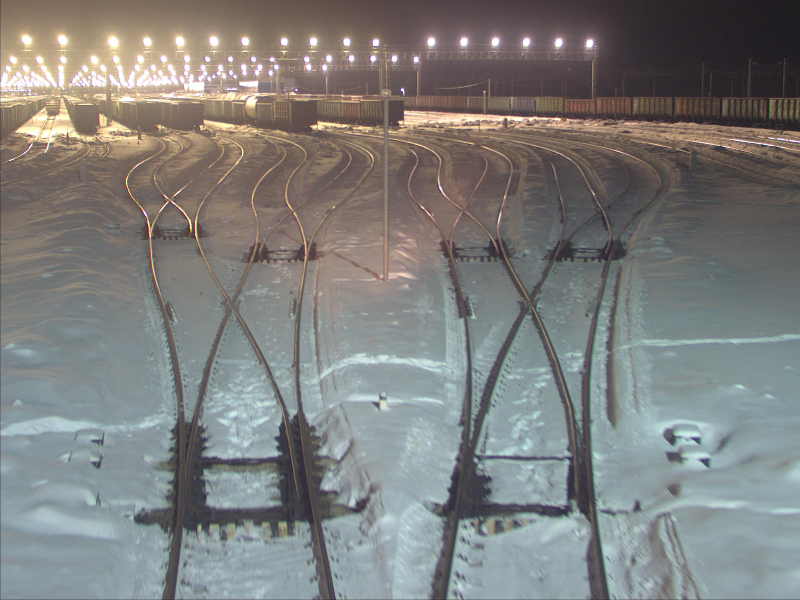left: (251, 203, 310, 256)
right: (150, 287, 319, 513), (451, 298, 596, 516), (429, 204, 503, 261), (553, 200, 618, 257), (139, 191, 200, 238)
